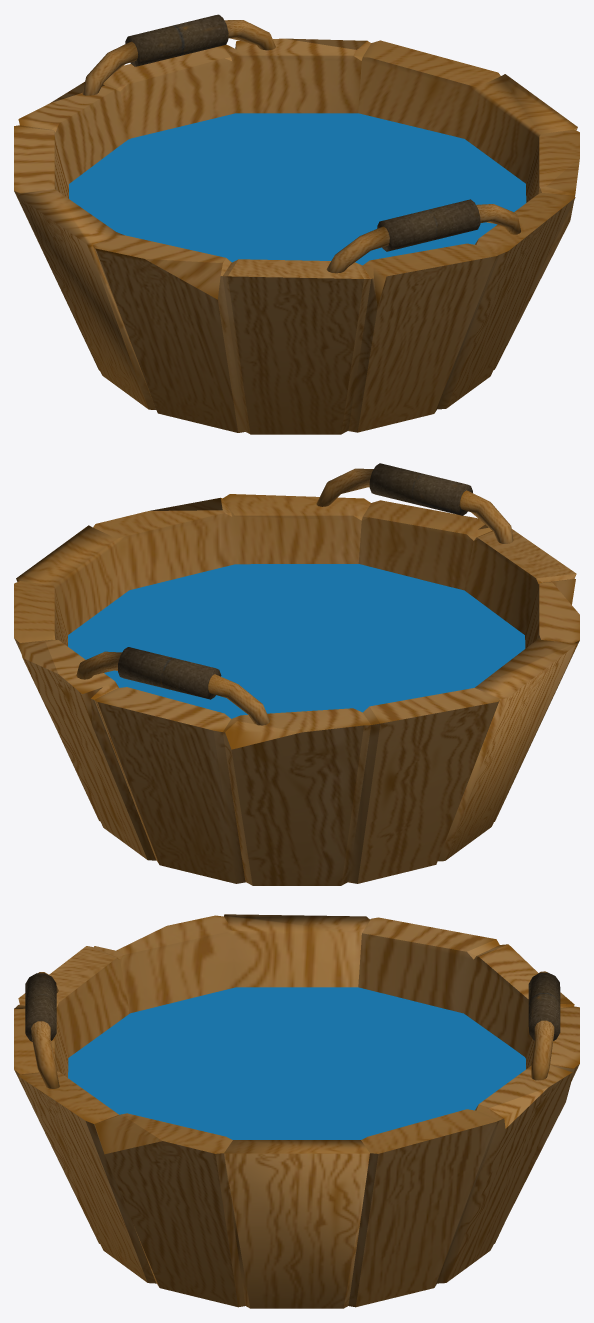
The model's file is water basin.fbx.
3 renders of one model, top to bottom at view 1: azimuth 30°, elevation 25°; view 2: azimuth 150°, elevation 25°; view 3: azimuth 270°, elevation 25°, orthographic.
Parts seen in each view (by area): view 1: water basin; view 2: water basin; view 3: water basin.
Boxes of the visible parts, x1,y1,x2,y2 form: water basin: (14, 14, 579, 434); water basin: (14, 463, 579, 885); water basin: (14, 914, 579, 1308).
Bounding box in the file's own units: 362 × 165 × 363.
Materials: 2 (1 with a texture image).
